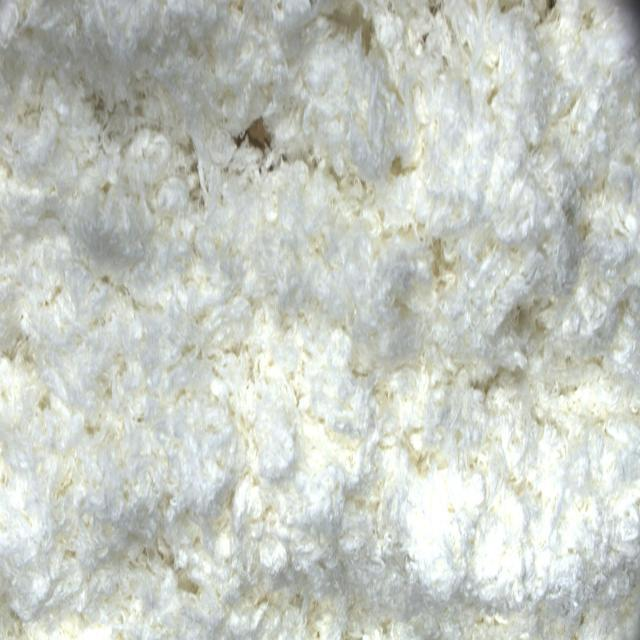dust: (241, 114, 287, 179), (328, 2, 377, 57)
